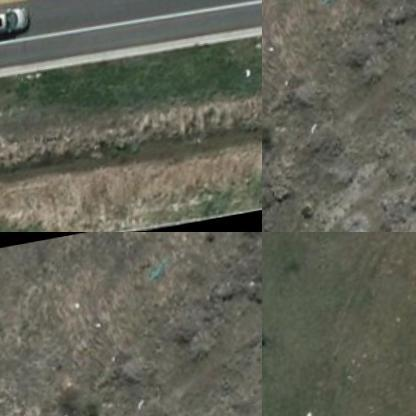car: (0, 3, 42, 49)
